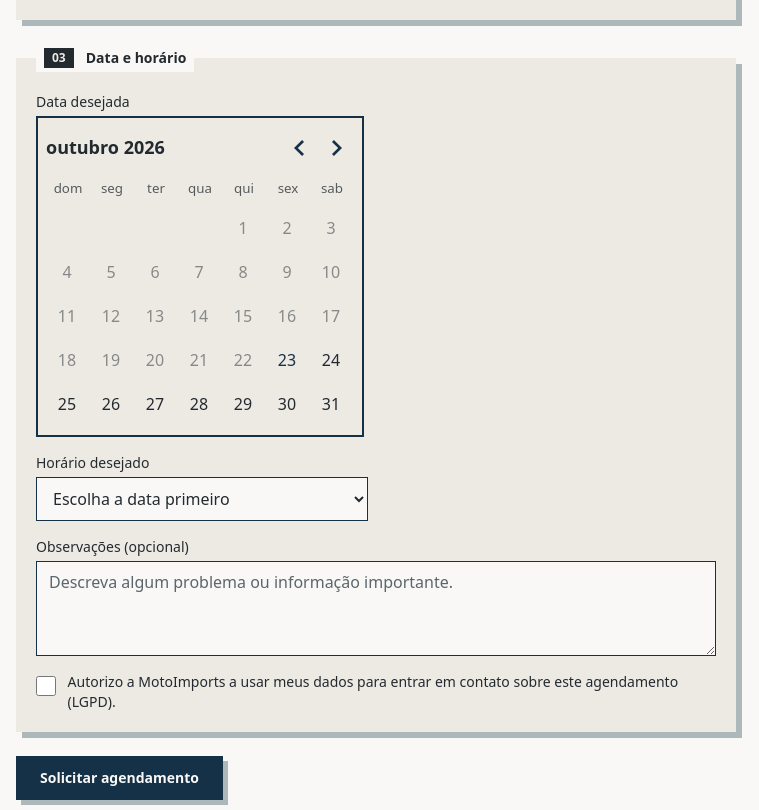
Test: Pós-venda · agendamento › RF-10: o horário só libera depois de escolher o dia
The width and height of the screenshot is (759, 810).
(page scrolled)
Expected: the dropdown labelled "Horário desejado" is disabled, left=36, top=477, right=368, bottom=521
Click the button named "26 de outubro de 2026": (111, 405) left=90, top=384, right=132, bottom=426
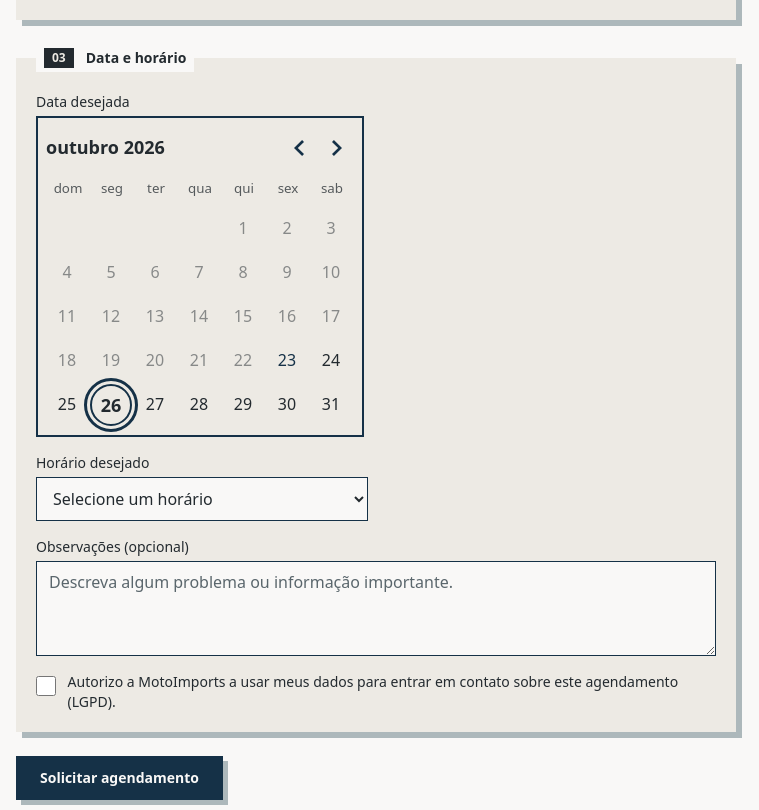
Expected: the dropdown labelled "Horário desejado" is enabled, left=36, top=477, right=368, bottom=521
